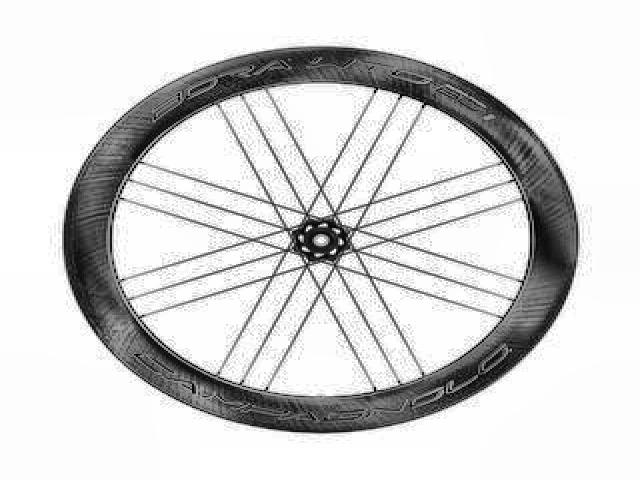wheel: (56, 40, 582, 438)
